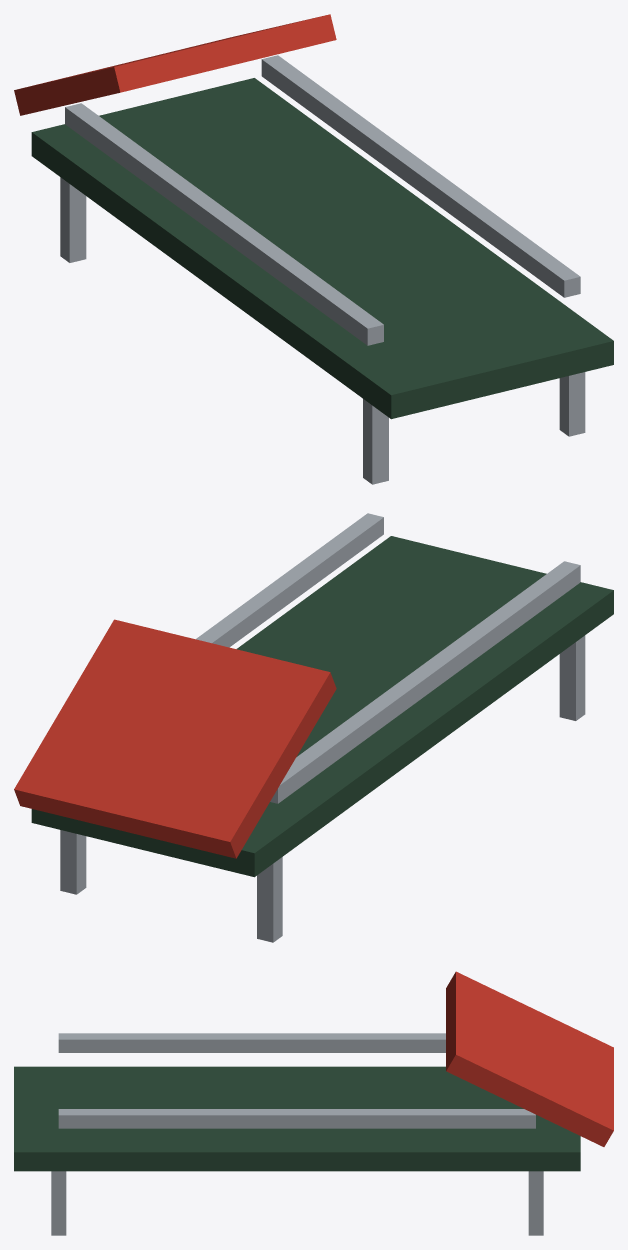
The model's file is PRP_Lounger.fbx.
3 renders of one model, top to bottom at view 1: azimuth 30°, elevation 25°; view 2: azimuth 150°, elevation 25°; view 3: azimuth 270°, elevation 25°, orthographic. The views are drawn at different scales.
Parts seen in each view (by area): view 1: PRP_Lounger__BODY; view 2: PRP_Lounger__BODY; view 3: PRP_Lounger__BODY.
Part boxes in pixels (x1=…): PRP_Lounger__BODY: x1=14, y1=14, x2=613, y2=484; PRP_Lounger__BODY: x1=14, y1=513, x2=613, y2=942; PRP_Lounger__BODY: x1=14, y1=971, x2=613, y2=1235.
Bounding box in the file's own units: 0.68 × 0.6717 × 2.01.
